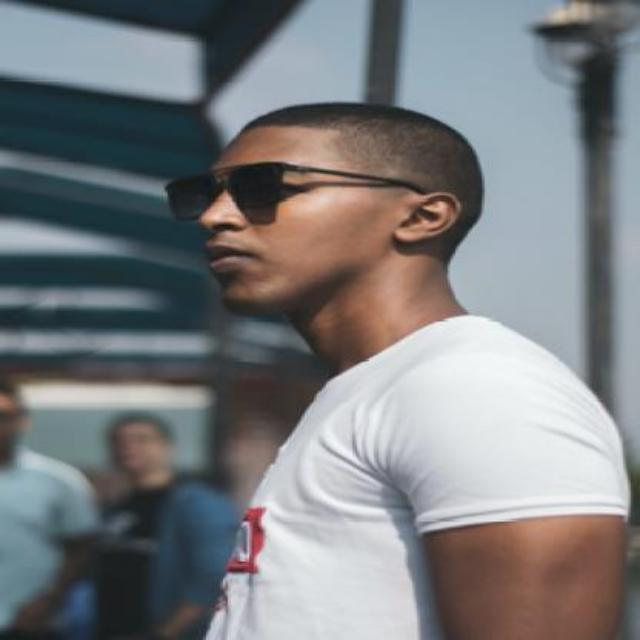sunglasses: (163, 159, 427, 217)
